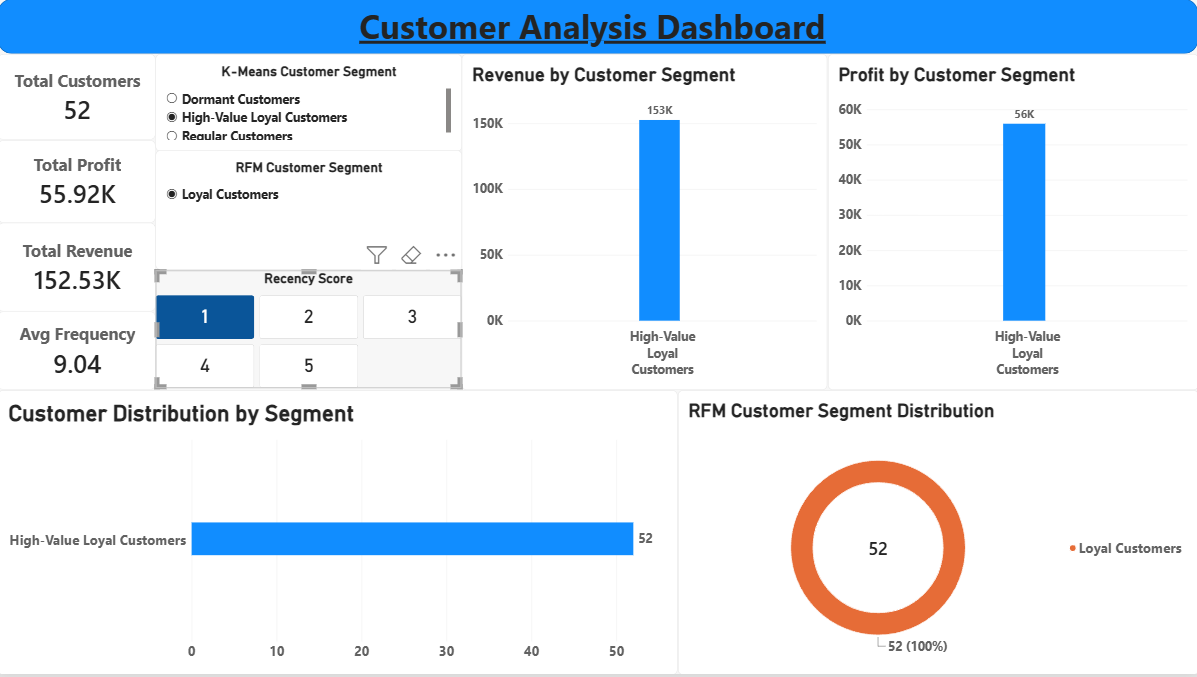

What the dashboard file says about the page in this screenshot:
{"tool":"powerbi","page":{"name":"Page 1","canvas":[1920,1080],"ordinal":0},"visuals":[{"type":"cardVisual","fields":{"Data":["final_customer_segmentation.Total Customers"]},"box":[0,87.5,252.5,137.5],"z":0},{"type":"cardVisual","fields":{"Data":["final_customer_segmentation.Total Profit"]},"box":[0,225,252.5,132.5],"z":1000},{"type":"cardVisual","fields":{"Data":["final_customer_segmentation.Total Revenue"]},"box":[0,357.5,252.5,142.5],"z":2000},{"type":"cardVisual","fields":{"Data":["final_customer_segmentation.Average Frequency"]},"box":[0,500,252.5,125],"z":3000},{"type":"clusteredBarChart","title":"Customer Distribution by Segment","fields":{"Category":["final_customer_segmentation.Cluster_Name"],"Y":["CountNonNull(final_customer_segmentation.F_Score)"]},"box":[0,625,1087.5,455],"z":4000},{"type":"clusteredColumnChart","title":"Revenue by Customer Segment","fields":{"Category":["final_customer_segmentation.Cluster_Name"],"Y":["final_customer_segmentation.Total Revenue"]},"box":[742.5,87.5,585,537.5],"z":5000},{"type":"textbox","box":[643,713,175,367],"z":6000},{"type":"shape","box":[0,0,1920,87.5],"z":7000},{"type":"textbox","box":[577.5,5,1130,82.5],"z":8000},{"type":"clusteredColumnChart","title":"Profit by Customer Segment","fields":{"Category":["final_customer_segmentation.Cluster_Name"],"Y":["final_customer_segmentation.Total Profit"]},"box":[1327.5,87.5,592.5,537.5],"z":9000},{"type":"donutChart","title":"RFM Customer Segment Distribution","fields":{"Category":["final_customer_segmentation.Customer_Segment"],"Y":["CountNonNull(final_customer_segmentation.CustomerID)"]},"box":[1087.5,625,832.5,455],"z":10000},{"type":"listSlicer","title":"K-Means Customer Segment","fields":{"Values":["final_customer_segmentation.Cluster_Name"]},"box":[252.9,87.1,490,155.7],"z":11000},{"type":"listSlicer","title":"RFM Customer Segment","fields":{"Values":["final_customer_segmentation.Customer_Segment"]},"box":[252.9,242.9,490,191.4],"z":12000},{"type":"advancedSlicerVisual","title":"Recency Score","fields":{"Values":["final_customer_segmentation.R_Score"]},"box":[252.9,434.3,490,188.6],"z":12001}]}

Visuals, with their boxes in screenshot pixels (x1, y1, x2, y2), scaled from the page's 1920x1080 canvas onto the 1197x677 screenshot:
cardVisual - final_customer_segmentation.Total Customers: 0,55,157,141
cardVisual - final_customer_segmentation.Total Profit: 0,141,157,224
cardVisual - final_customer_segmentation.Total Revenue: 0,224,157,313
cardVisual - final_customer_segmentation.Average Frequency: 0,313,157,392
"Customer Distribution by Segment" clusteredBarChart: 0,392,678,676
"Revenue by Customer Segment" clusteredColumnChart: 463,55,828,392
textbox: 401,447,510,676
shape: 0,0,1196,55
textbox: 360,3,1065,55
"Profit by Customer Segment" clusteredColumnChart: 828,55,1196,392
"RFM Customer Segment Distribution" donutChart: 678,392,1196,676
"K-Means Customer Segment" listSlicer: 158,55,463,152
"RFM Customer Segment" listSlicer: 158,152,463,272
"Recency Score" advancedSlicerVisual: 158,272,463,390
